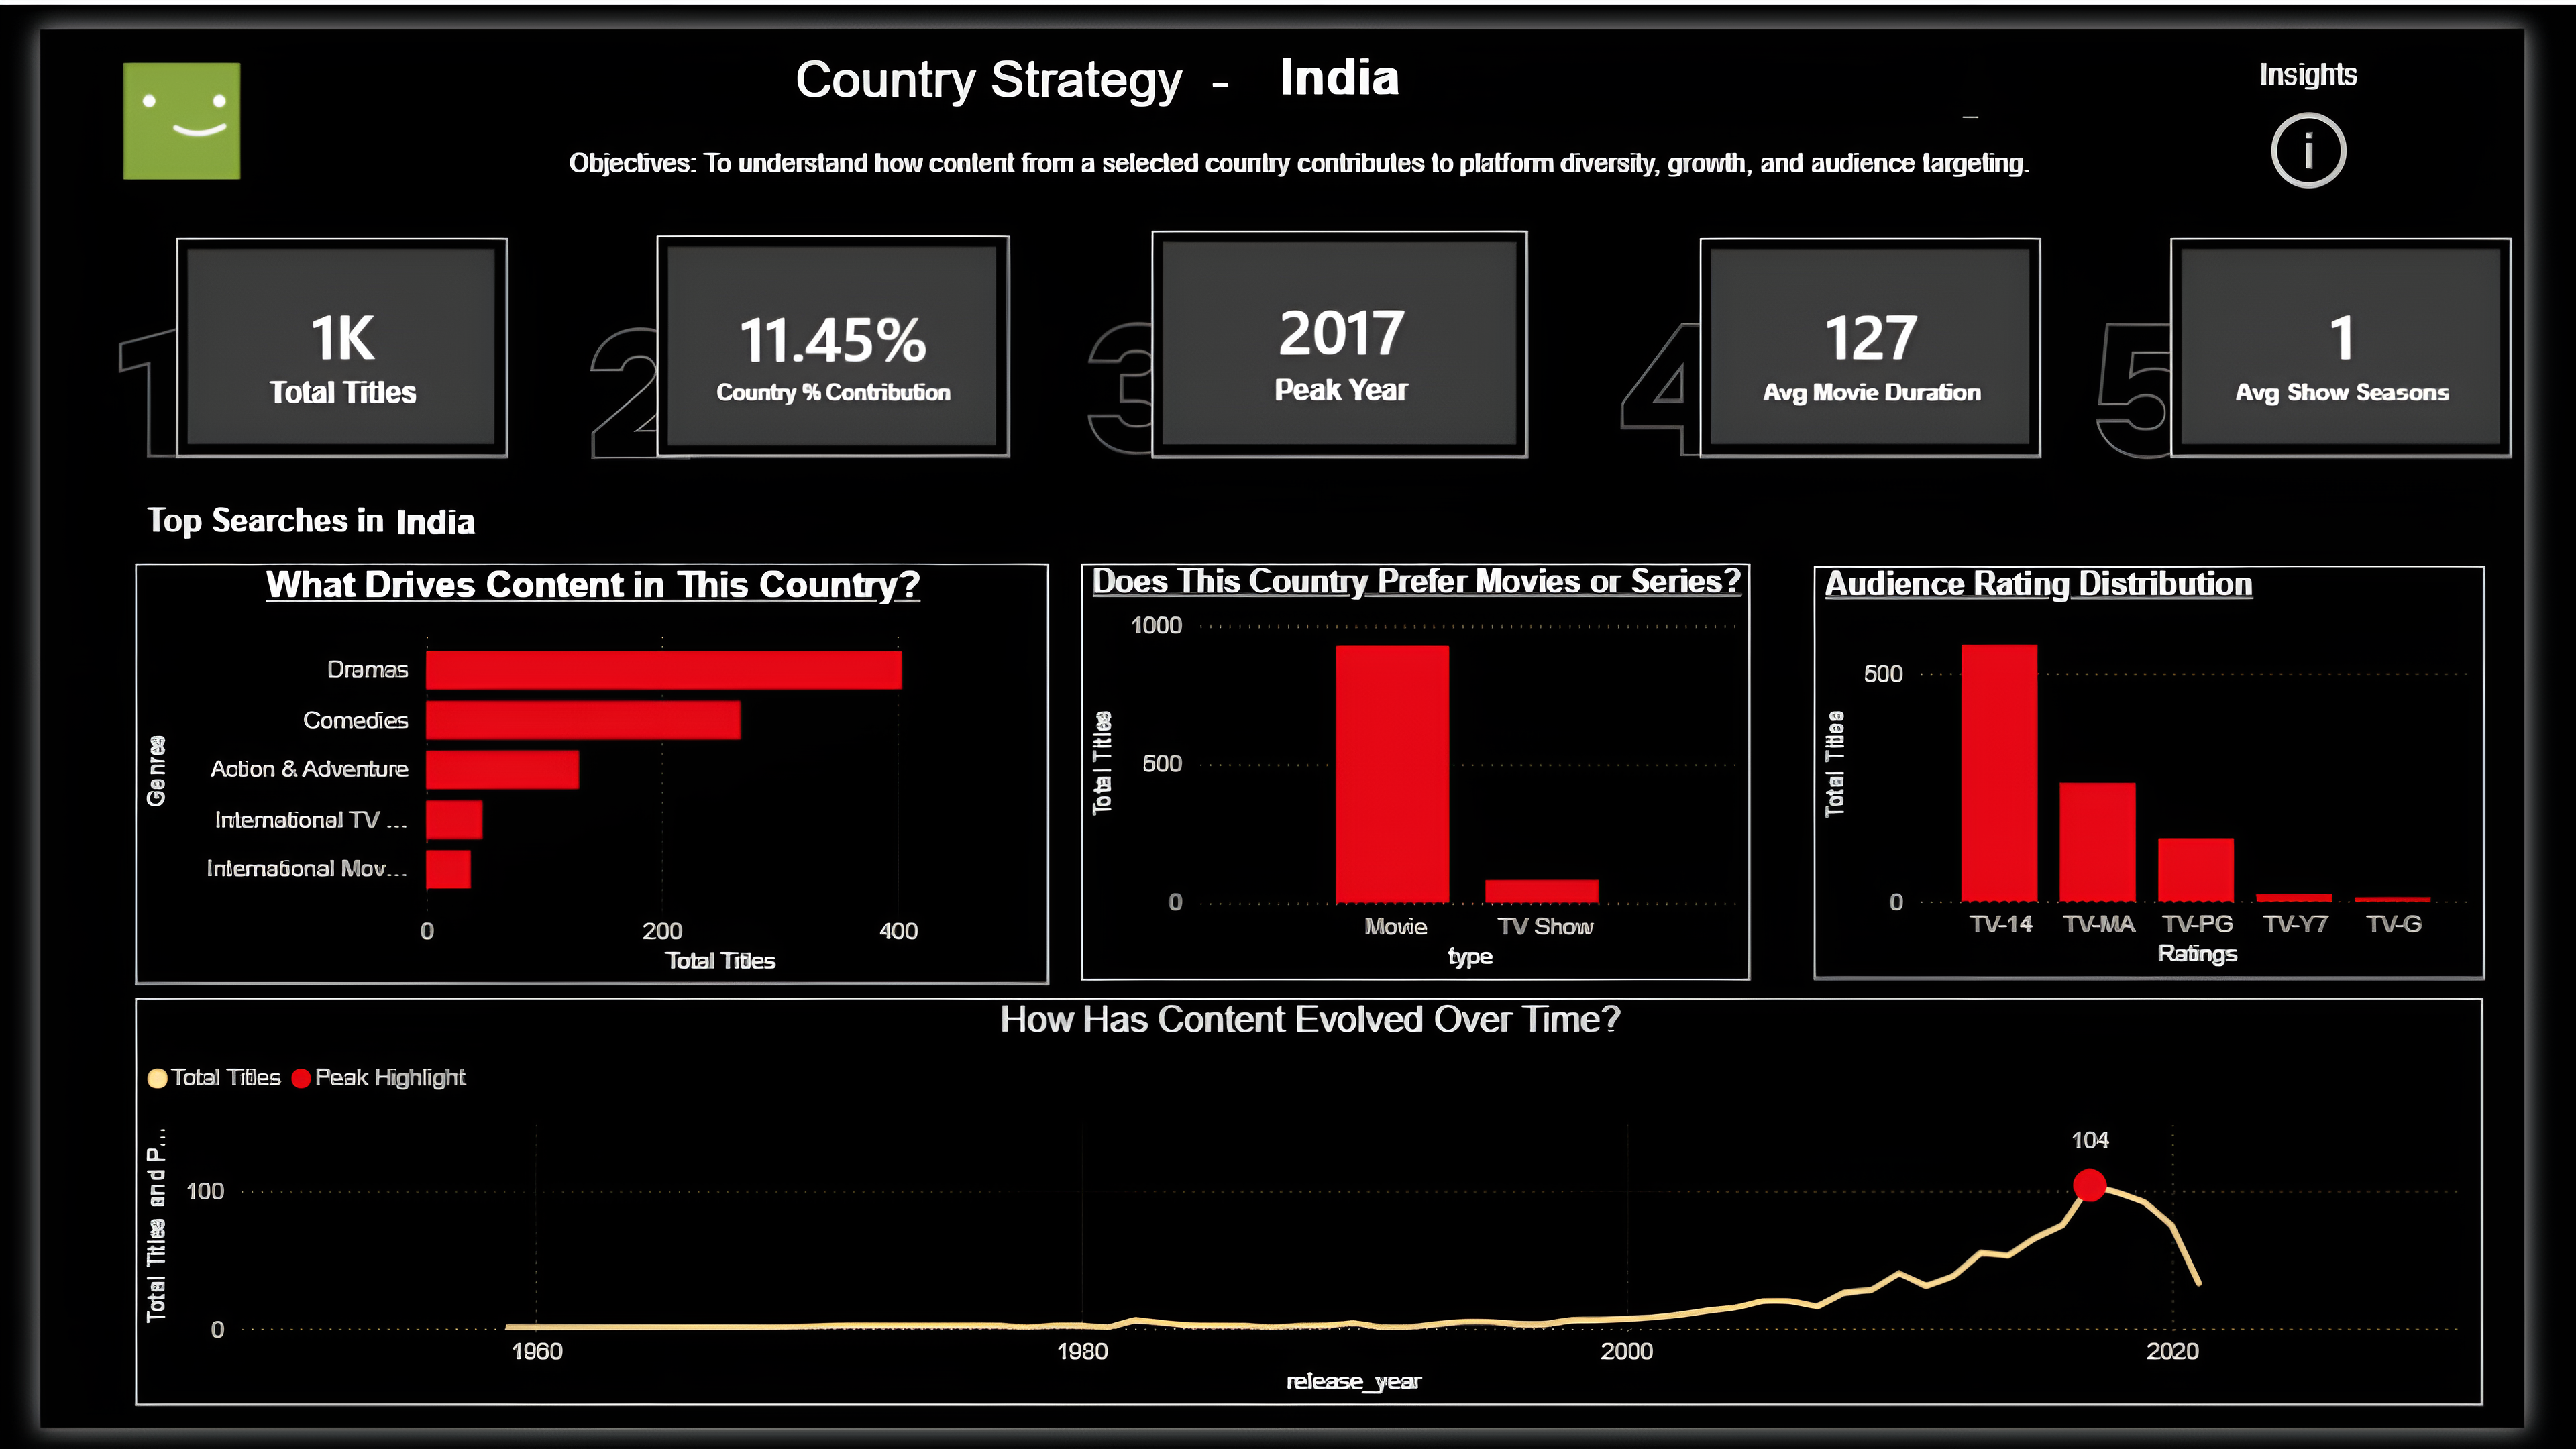

The dashboard page shown, as its layout file describes it:
{"tool":"powerbi","page":{"name":"Country Analysis","canvas":[1280,720],"ordinal":4},"visuals":[{"type":"lineChart","title":"How Has Content Evolved Over Time?","fields":{"Category":["netflix titles.release_year"],"Y":["Home Measures.Total Titles","Country Strategy.Peak Highlight"]},"box":[48.6,499.3,1210.1,210.2],"z":0},{"type":"image","box":[14.3,113,92.2,147.3],"z":1000,"group":"g2"},{"type":"clusteredBarChart","title":"What Drives Content in This Country?","fields":{"Category":["netflix titles.listed_in"],"Y":["Home Measures.Total Titles"]},"box":[48.2,275.3,470.7,217.5],"z":1000},{"type":"group","id":"g1","title":"Group 2","box":[337.2,6.2,666.2,45.4],"z":2000},{"type":"textbox","box":[337.2,6.2,282.2,42.7],"z":2000,"group":"g1"},{"type":"cardVisual","fields":{"Data":["Home Measures.Total Titles"]},"box":[70.7,107.5,170.7,112.9],"z":2000,"group":"g2"},{"type":"textbox","box":[633.1,10.3,370.2,41.3],"z":2500,"group":"g1"},{"type":"textbox","box":[267,56.4,779,42.7],"z":3000},{"type":"image","box":[263.4,113,93.6,148.6],"z":3000,"group":"g2"},{"type":"actionButton","title":"Insights","box":[1143.7,16.5,67.4,71.6],"z":4000},{"type":"cardVisual","fields":{"Data":["Country Strategy.Country % Contribution"]},"box":[317.6,106.3,181.7,114.2],"z":4000,"group":"g2"},{"type":"clusteredColumnChart","title":"Does This Country Prefer Movies or Series?","fields":{"Category":["netflix titles.type"],"Y":["Home Measures.Total Titles"]},"box":[536.8,275.3,345.5,214.7],"z":5000},{"type":"group","id":"g2","title":"Group 1","box":[14.3,103.4,1258.5,164.5],"z":6000},{"type":"image","box":[520.8,110.3,92.2,148.6],"z":7000,"group":"g2"},{"type":"clusteredColumnChart","title":"Audience Rating Distribution","fields":{"Y":["Home Measures.Total Titles"],"Category":["netflix titles.Ratings"]},"box":[913.1,275.9,345.5,212.8],"z":7000},{"type":"group","id":"g3","title":"Group 3","box":[50.1,240.3,284.6,28.6],"z":8000},{"type":"image","box":[40,17.2,65.8,60.1],"z":9000},{"type":"cardVisual","fields":{"Data":["Country Strategy.Peak Year"]},"box":[573.1,103.4,194.1,117],"z":9000,"group":"g2"},{"type":"textbox","box":[50.1,240.3,147.3,28.6],"z":9000,"group":"g3"},{"type":"image","box":[796.1,103.4,96.3,163.8],"z":10000,"group":"g2"},{"type":"textbox","box":[178.8,244.6,155.9,24.3],"z":10000,"group":"g3"},{"type":"image","box":[1038.3,103.4,96.3,163.8],"z":12000,"group":"g2"},{"type":"cardVisual","fields":{"Data":["Shows vs Movies measures.Avg Movie Duration"]},"box":[855.2,107.5,176.2,112.9],"z":13000,"group":"g2"},{"type":"cardVisual","fields":{"Data":["Shows vs Movies measures.Avg Show Seasons"]},"box":[1097.5,107.5,176.2,112.9],"z":15000,"group":"g2"}]}

Visuals, with their boxes in screenshot pixels (x1, y1, x2, y2), scaled from the page's 1280x720 canvas onto the 2576x1449 screenshot:
"How Has Content Evolved Over Time?" lineChart: (98,1005,2533,1428)
image: (29,227,215,524)
"What Drives Content in This Country?" clusteredBarChart: (97,554,1044,991)
"Group 2" group: (679,13,2019,104)
textbox: (679,13,1246,99)
cardVisual - Home Measures.Total Titles: (142,216,486,443)
textbox: (1274,21,2019,104)
textbox: (537,113,2105,199)
image: (530,227,718,527)
"Insights" actionButton: (2302,34,2437,177)
cardVisual - Country Strategy.Country % Contribution: (639,214,1005,444)
"Does This Country Prefer Movies or Series?" clusteredColumnChart: (1080,554,1776,986)
"Group 1" group: (29,208,2561,539)
image: (1048,222,1234,521)
"Audience Rating Distribution" clusteredColumnChart: (1837,555,2533,983)
"Group 3" group: (101,484,674,541)
image: (80,35,213,156)
cardVisual - Country Strategy.Peak Year: (1153,208,1544,443)
textbox: (101,484,397,541)
image: (1602,208,1796,538)
textbox: (360,492,674,541)
image: (2090,208,2284,538)
cardVisual - Shows vs Movies measures.Avg Movie Duration: (1721,216,2076,443)
cardVisual - Shows vs Movies measures.Avg Show Seasons: (2208,216,2563,443)
